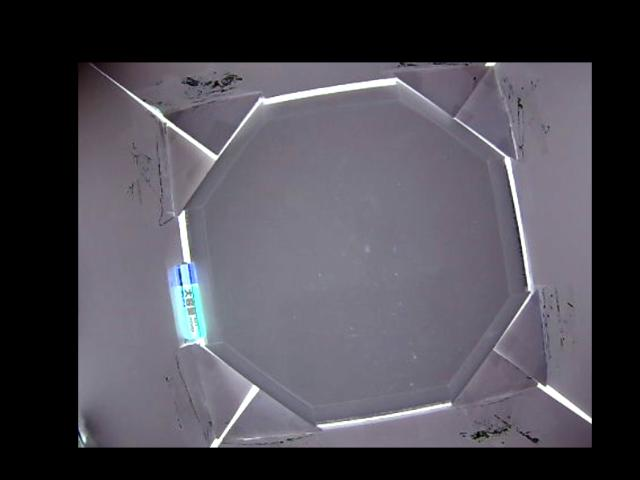Battery: (173, 261, 205, 338)
